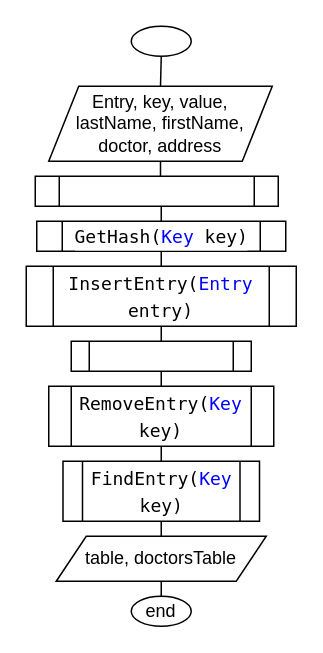
Image size: 323x653. Some labels were removed from this diagram. The centre of each missing label's shape, as x and y in pixels:
HashCode( Key key): the point at 156,190
Rehashing(): the point at 160,355
start: the point at 160,40
